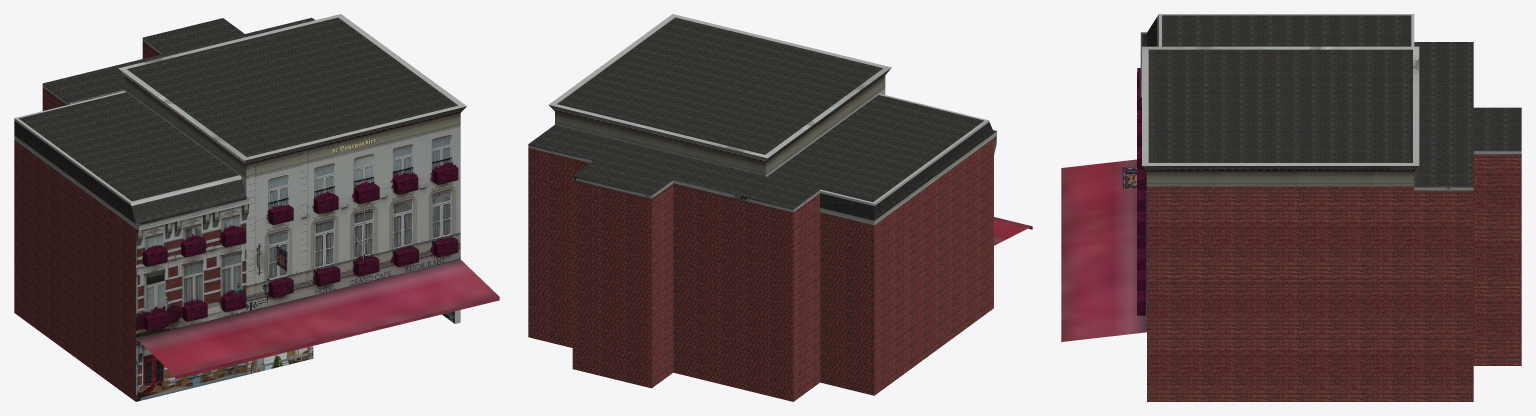
Rendered from eu_hotel.glb.
3 renders of one model, left to right at view 1: azimuth 30°, elevation 25°; view 2: azimuth 150°, elevation 25°; view 3: azimuth 270°, elevation 25°, orthographic. The views are drawn at different scales.
Parts seen in each view (by area): view 1: eu_07; view 2: eu_07; view 3: eu_07.
Boxes of the visible parts, <box> form: eu_07: <box>14,14,499,401</box>; eu_07: <box>528,14,1032,401</box>; eu_07: <box>1061,14,1521,401</box>.
Size of the model in its own units: 17.67 by 11.14 by 19.5.
15 materials, 15 textured.
